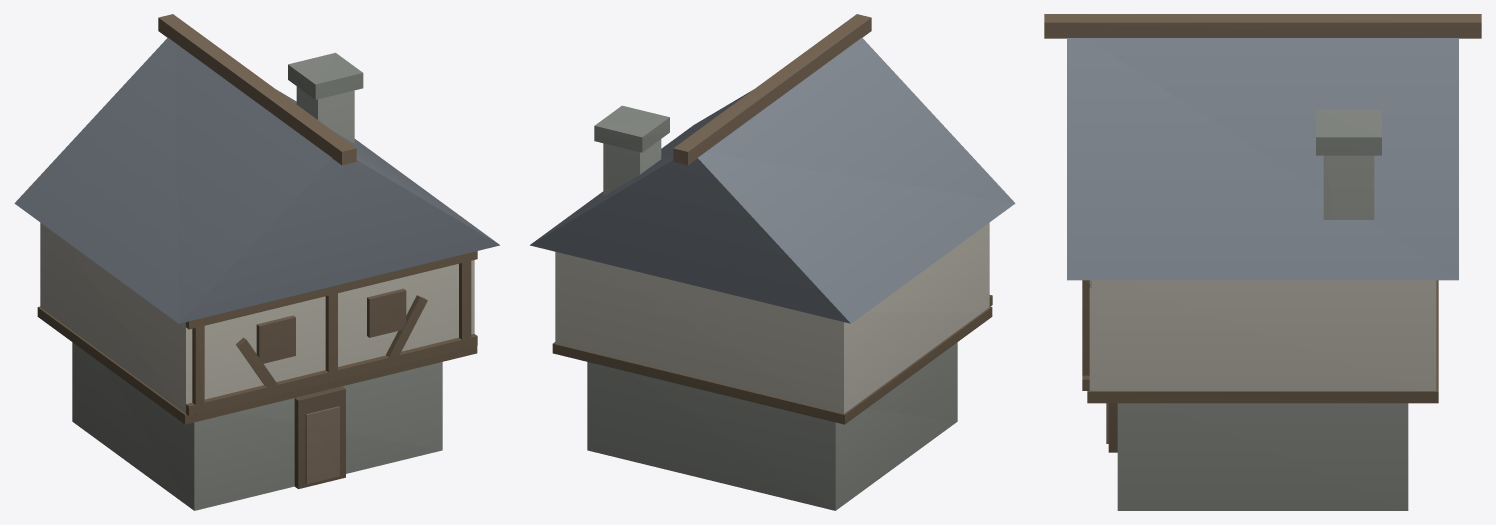
File: cottage.glb
3 views of the same model, side by side, from view 1: azimuth 30°, elevation 25°; view 2: azimuth 150°, elevation 25°; view 3: azimuth 270°, elevation 25° (orthographic). The views are drawn at different scales.
Parts seen in each view (by area): view 1: cottage; view 2: cottage; view 3: cottage.
Part boxes in pixels (bbox=[...]): cottage: bbox=[14, 14, 499, 510]; cottage: bbox=[530, 14, 1015, 510]; cottage: bbox=[1044, 14, 1481, 510].
Size of the model in its own units: 1.75 by 1.83 by 1.73.
